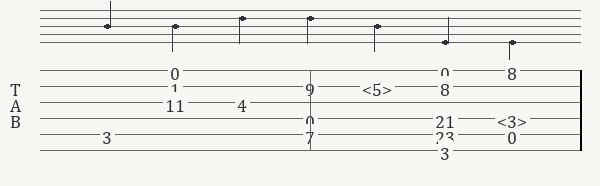0: (170, 62, 184, 78), (305, 110, 319, 126), (440, 62, 454, 78), (507, 126, 521, 142)
1: (170, 78, 184, 94)
11: (165, 94, 189, 110)
21: (435, 110, 459, 126)
23: (435, 126, 459, 142)
3: (102, 126, 116, 142), (440, 142, 454, 158)
4: (237, 94, 251, 110)
7: (305, 126, 319, 143)
8: (440, 78, 454, 94), (507, 62, 521, 78)
9: (305, 78, 319, 94)
harmonic: (362, 78, 396, 95), (497, 110, 531, 126)
